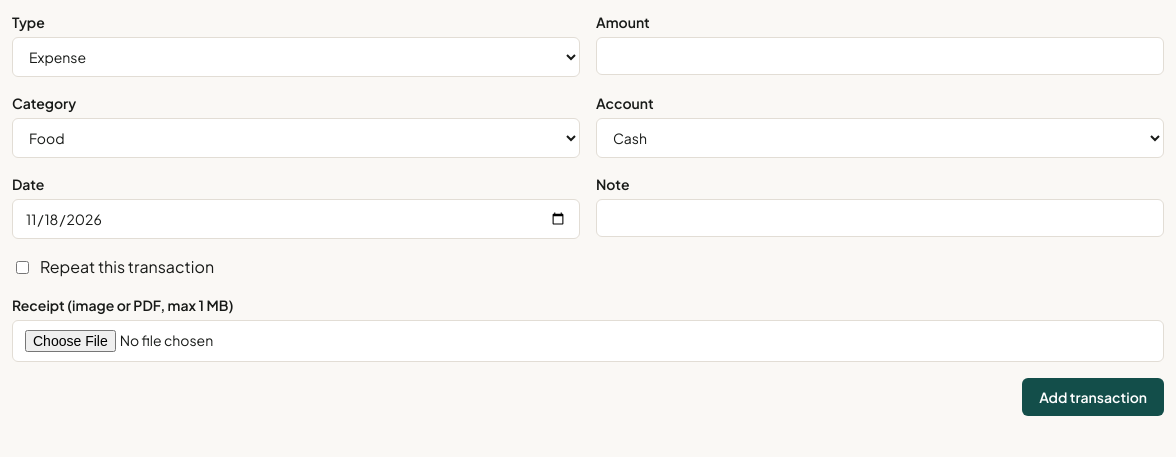
Test case: TransactionForm › validates amount > 0 and submits valid form data
Later steps or results of the test are not shown.
Click the button "Add transaction": (1093, 397) [1022, 378, 1164, 416]
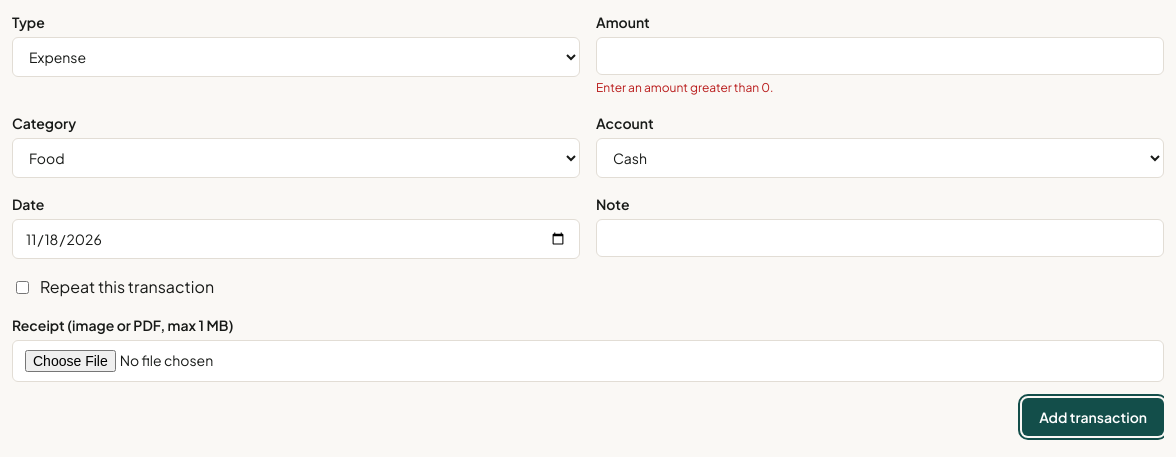
Expected: the text "Enter an amount greater than 0." is shown, [596, 80, 773, 95]
